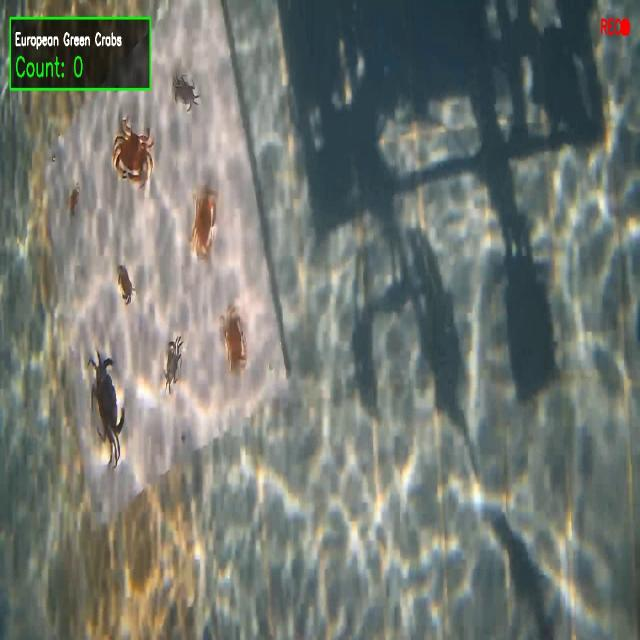European_Green_Crab: (78, 343, 133, 476), (168, 60, 204, 122), (157, 328, 186, 399)
